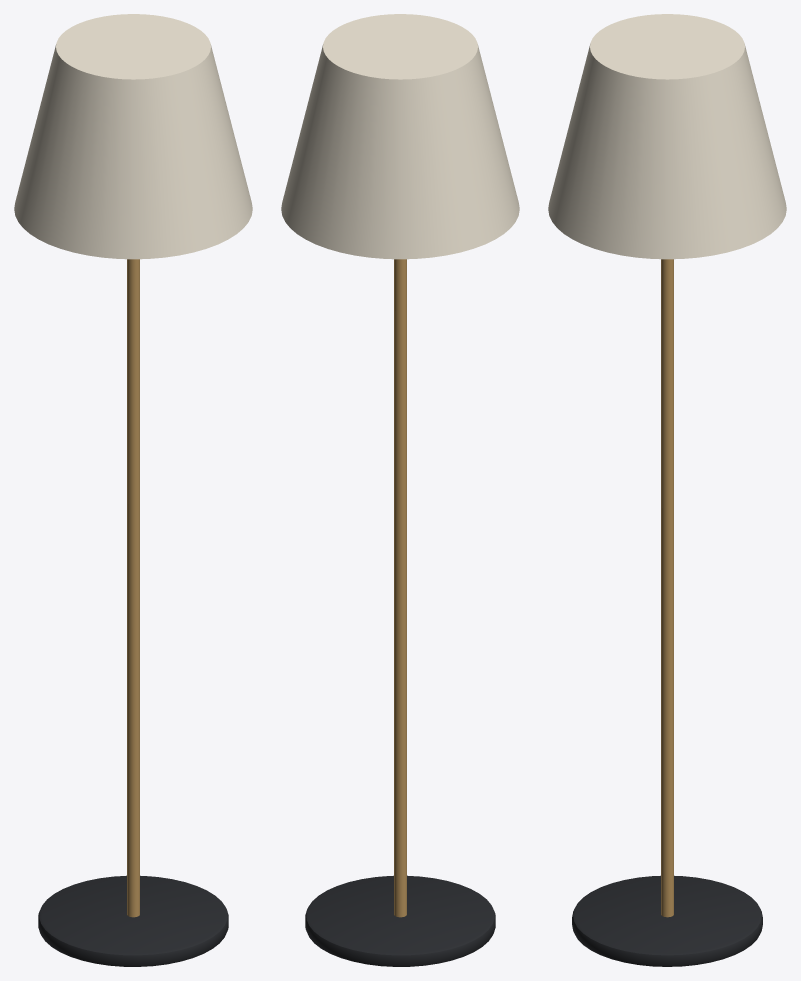
File: lamp_floor.glb
The picture shows the model from 3 angles, left to right: view 1: azimuth 30°, elevation 25°; view 2: azimuth 150°, elevation 25°; view 3: azimuth 270°, elevation 25°; orthographic projection.
Visible parts, largest first — view 1: cyl.003, cyl, cyl.001; view 2: cyl.003, cyl, cyl.001; view 3: cyl.003, cyl, cyl.001.
Part boxes in pixels (left/top/right/bottom): cyl.003: left=14, top=14, right=252, bottom=259; cyl: left=38, top=875, right=228, bottom=966; cyl.001: left=127, top=259, right=139, bottom=917; cyl.003: left=281, top=14, right=519, bottom=259; cyl: left=305, top=875, right=495, bottom=966; cyl.001: left=394, top=259, right=406, bottom=917; cyl.003: left=548, top=14, right=786, bottom=259; cyl: left=572, top=875, right=762, bottom=966; cyl.001: left=661, top=259, right=673, bottom=917.
Size of the model in its own units: 40 by 163 by 40.
